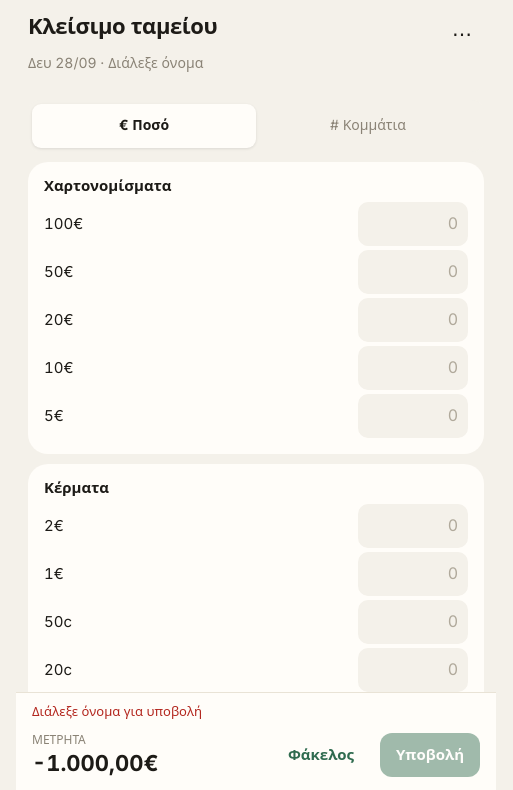
it: register flows › switching € → # converts what was typed and keeps the totals
Type "1500" into the field named "100€". click: {"x": 413, "y": 224}
box: [358,202,468,246]
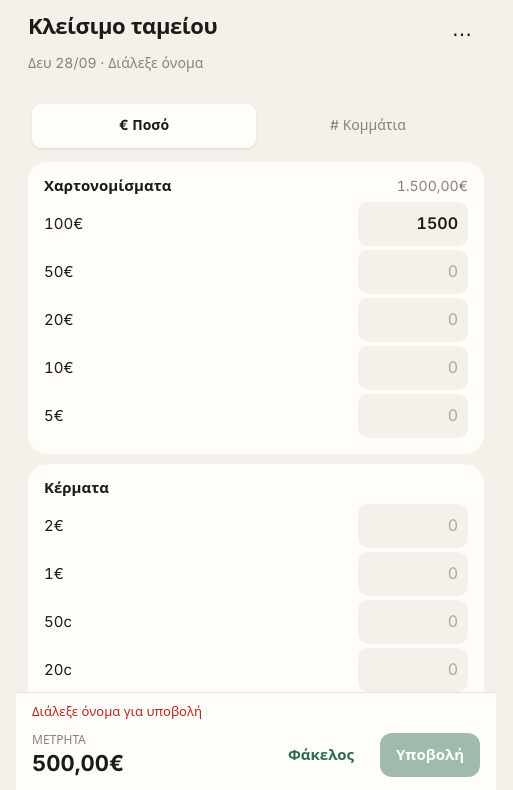
Click the button "# Κομμάτια". click: {"x": 368, "y": 126}
box: [256,104,480,148]
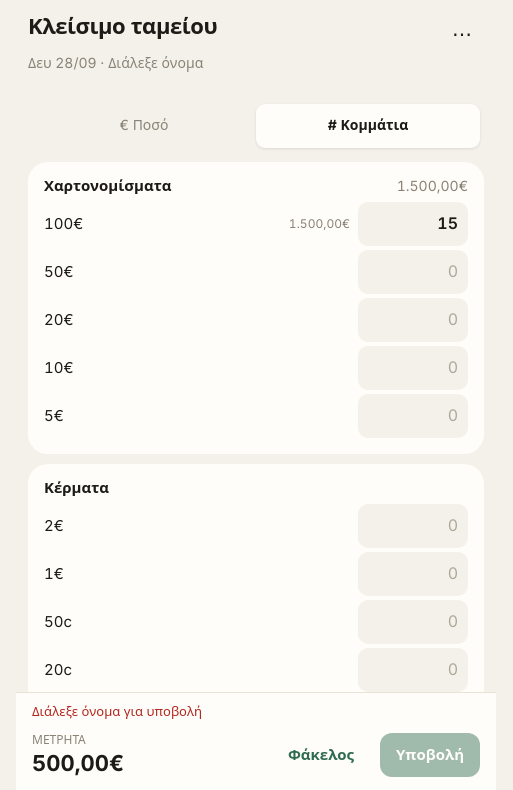
Expected: the field named "100€" holds "15", [358,202,468,246]
Expected: the text "1.500,00€" in the row of "100€" is shown, [289,216,350,231]
